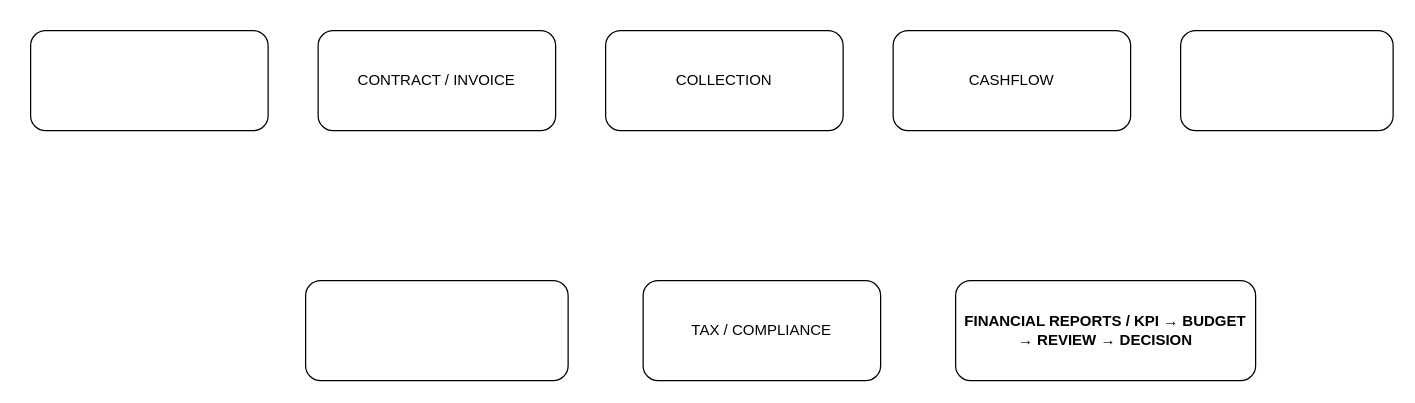
Some shapes in this 1415 by 403 pixel diagram are drawn without their labels. The shapes that lost their labels are listed below. From the top down, each one's box as (x1, y1, x2, y2) in pixels, then its label:
(29, 29, 268, 131): REVENUE / SALES PIPELINE
(1179, 29, 1393, 131): EXPENSES / PAYROLL / VENDORS
(304, 279, 568, 381): BOOKKEEPING / RECONCILIATION
